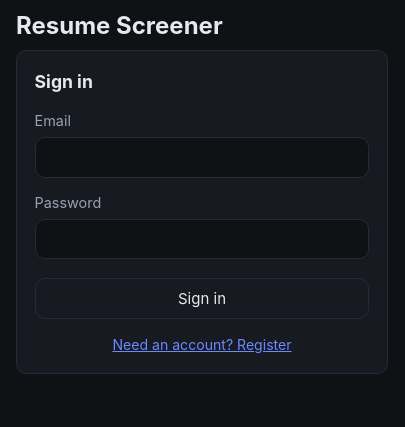
LoginPage › shows a single message for bad credentials
Type "me@example.com" into the field labelled "Email".
click(202, 158); type("me@example.com")  # box [35,137,369,178]
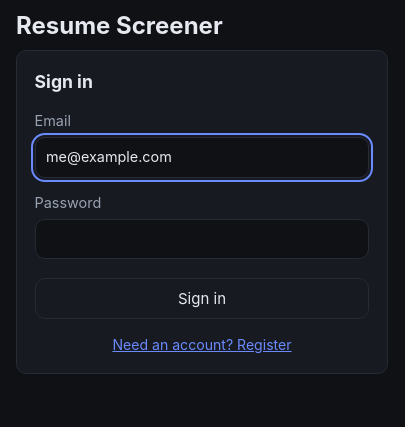
Type "wrong" into the password field labelled "Password".
click(202, 239); type("wrong")  # box [35,219,369,260]
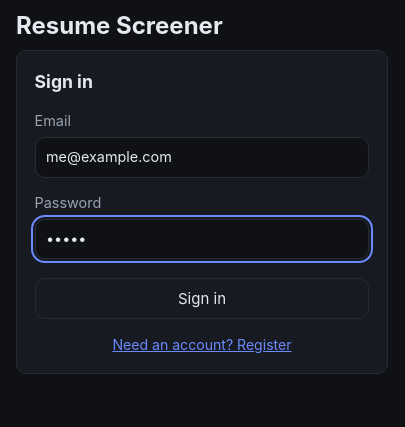
Click the button "Sign in".
click(202, 299)  # box [35,278,369,319]
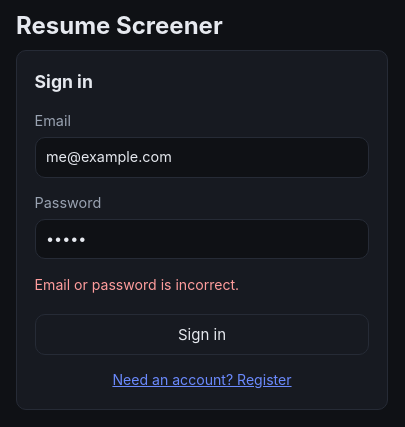
Now the message reads "Email or password is incorrect.", box [35,276,239,293]
